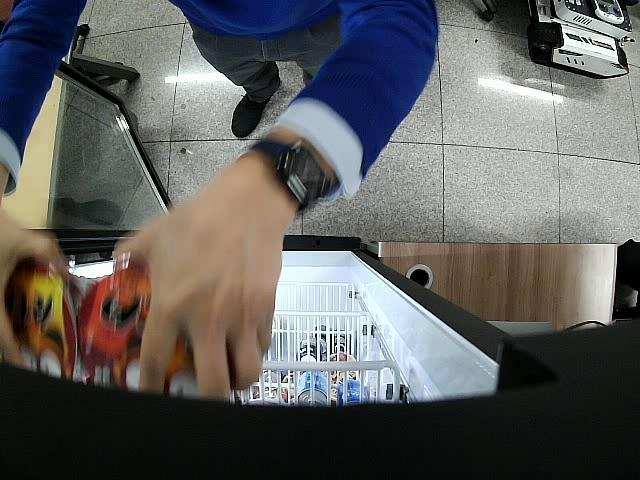05_nuguri_L: (80, 270, 191, 376), (10, 255, 96, 381)
